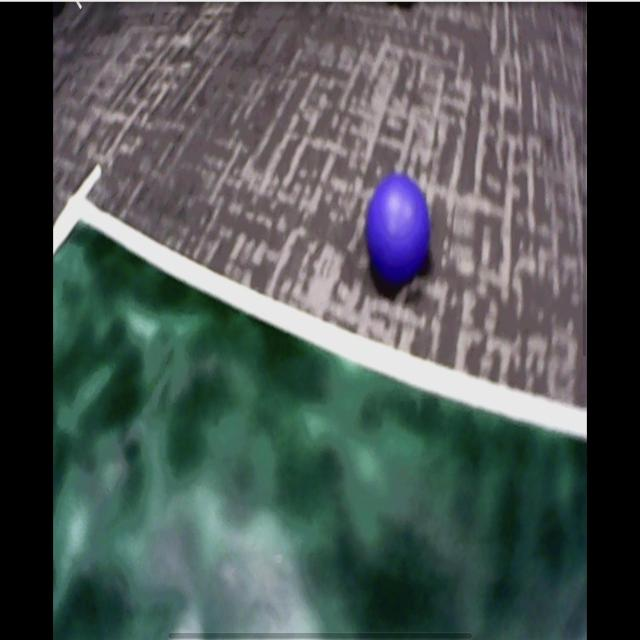ball: (366, 178, 431, 283)
